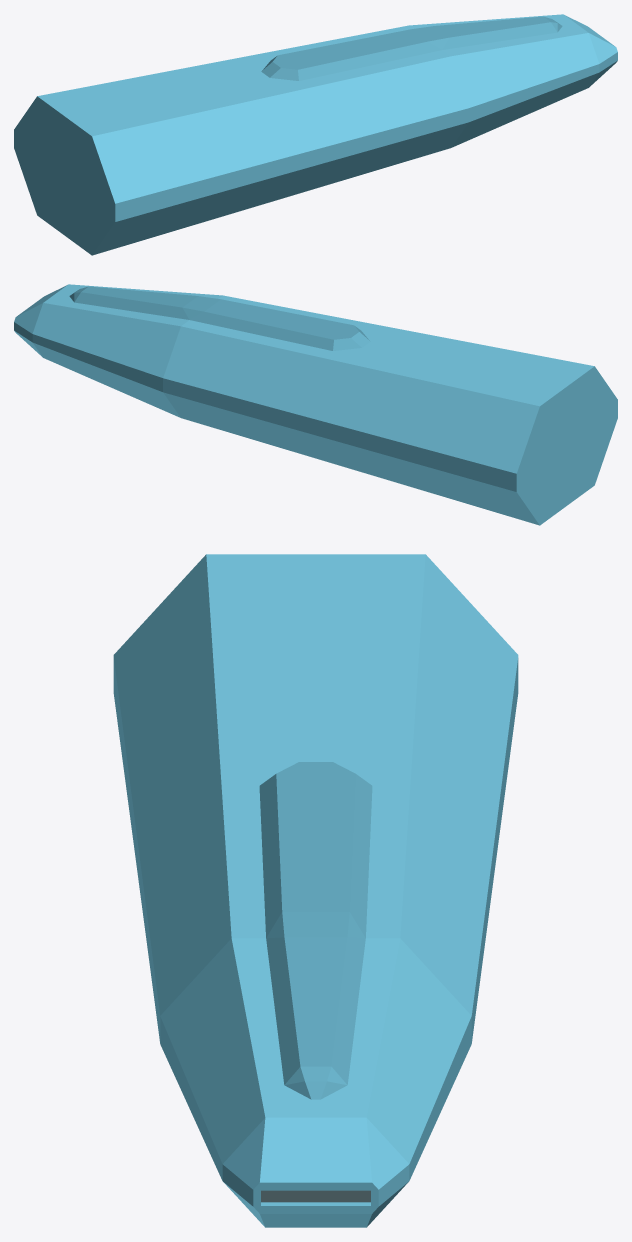
File: spacestation_structure_fuselage_narrow_front.glb
3 views of the same model, one above another, from view 1: azimuth 30°, elevation 25°; view 2: azimuth 150°, elevation 25°; view 3: azimuth 270°, elevation 25° (orthographic). The views are drawn at different scales.
Bounding box in the file's own units: 3.68 × 0.78 × 1.2.
